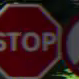Stop: (0, 2, 63, 73)
